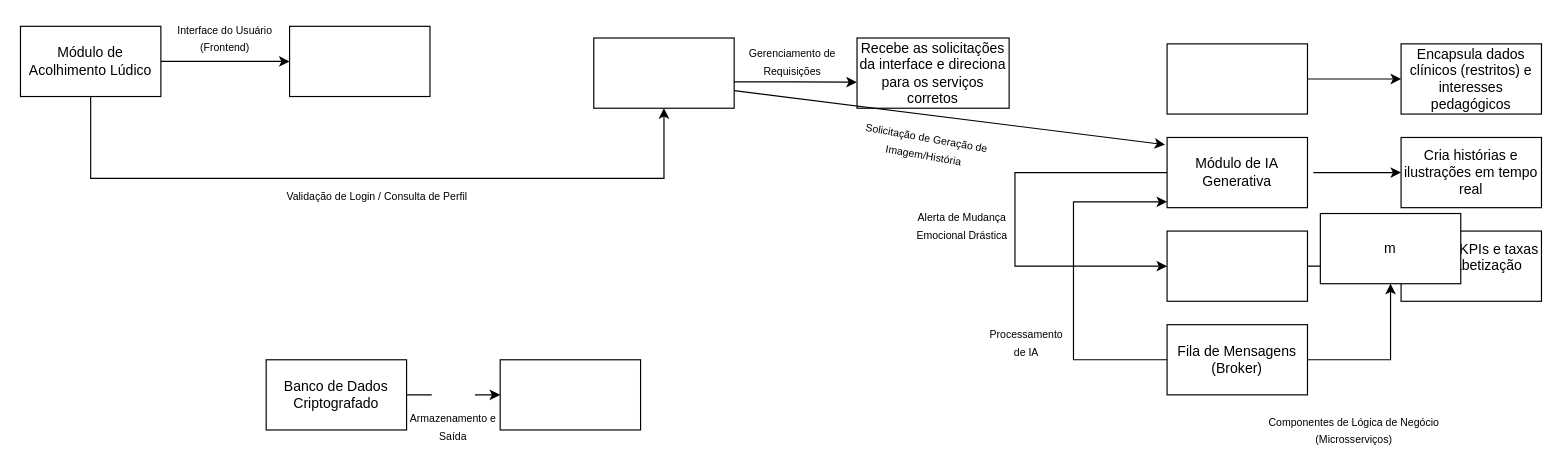
Image size: 1562x467. Some labels were removed from this diagram. Here are the shapes that lost their labels. From the top down, the centre of each, then its label:
At (359,61): "Interface onde a criança interage com avatares de IA".
At (663,72): "API Gateway / Backend".
At (1236,78): "Classe de Perfil do Paciente".
At (1236,265): "Subsistema de Progresso Pedagógico".
At (570,394): "Armazena dados anonimizados respeitando a LGPD e o ECA".
